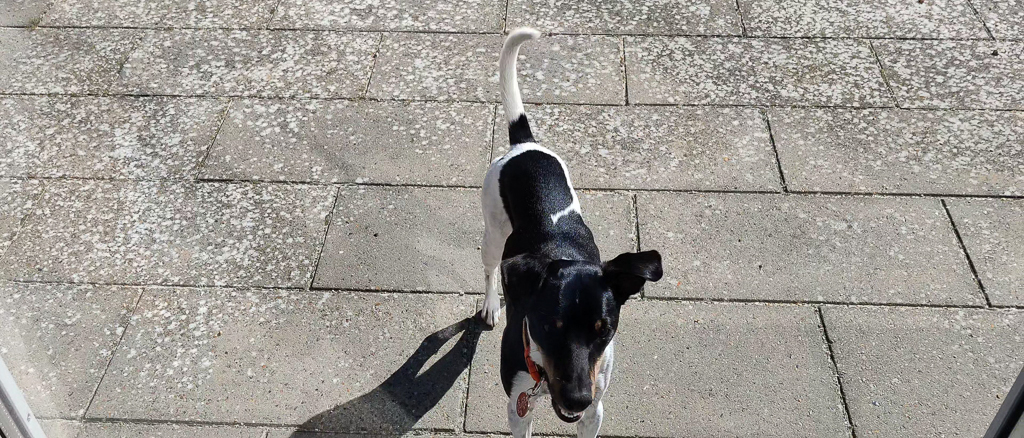Dog: (464, 17, 670, 438)
